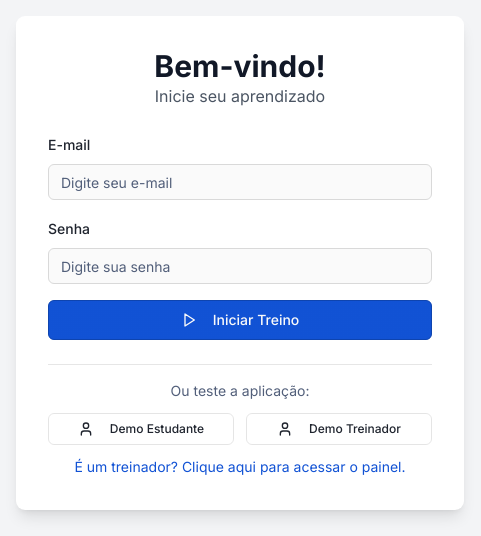
Test: LoginForm Component › toggles to trainer login form
The image size is (481, 536).
Click the button with test id "toggle-login-mode" at [240, 467], box x1=74 y1=457 x2=406 y2=477
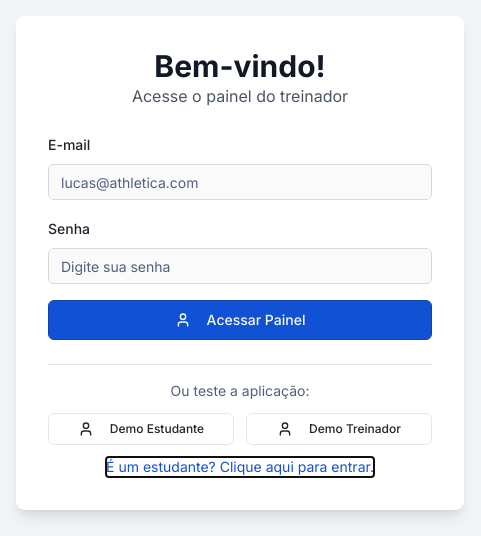
Now the text "Acesse o painel do treinador" is shown, box x1=132 y1=86 x2=348 y2=106
Now the field with test id "input-trainer-email" is shown, box x1=48 y1=164 x2=432 y2=200
Now the button with test id "button-trainer-login" is shown, box x1=48 y1=300 x2=432 y2=340
